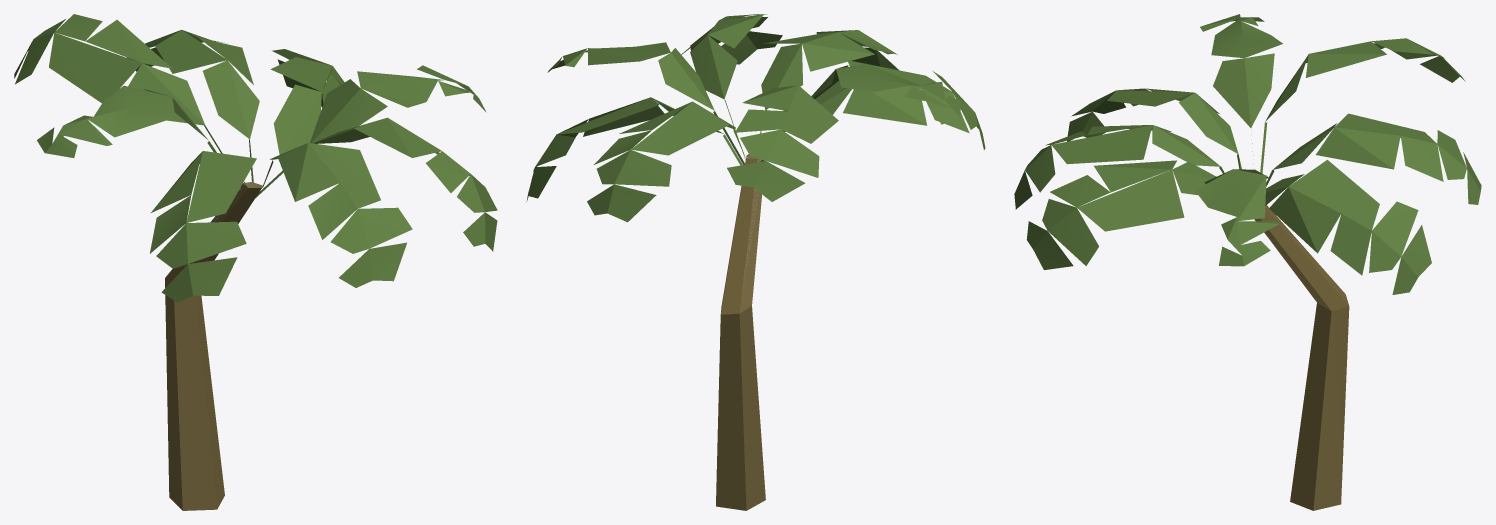
File: Tree_Palm_01.fbx
3 renders of one model, left to right at view 1: azimuth 30°, elevation 25°; view 2: azimuth 150°, elevation 25°; view 3: azimuth 270°, elevation 25°, orthographic. The views are drawn at different scales.
Parts seen in each view (by area): view 1: Model; view 2: Model; view 3: Model.
Part boxes in pixels (x1,y1,x2,y2): Model: (14, 14, 497, 510); Model: (526, 14, 985, 510); Model: (1014, 14, 1481, 510).
Size of the model in its own units: 532 by 539 by 536.
